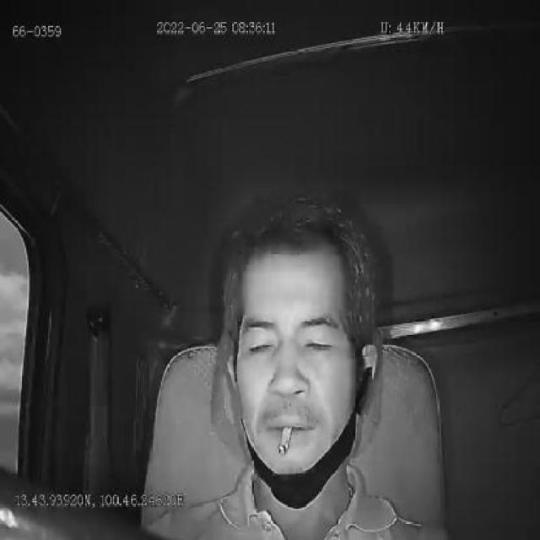smoking: (277, 428, 292, 456)
